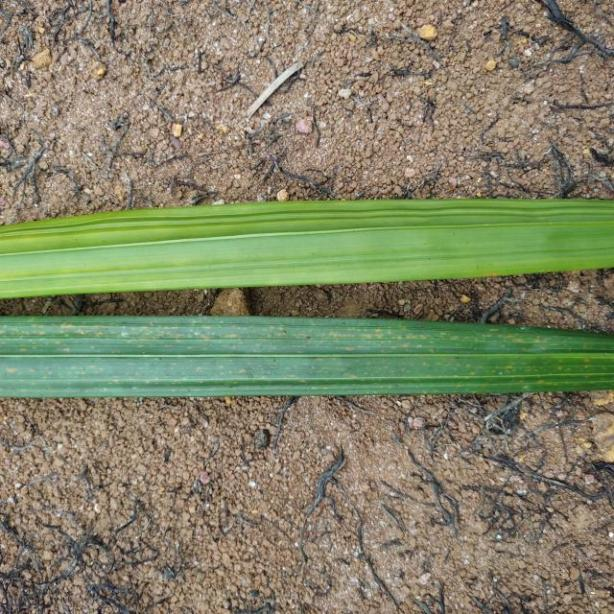nitrogen: (0, 192, 614, 304), (0, 308, 614, 400)
